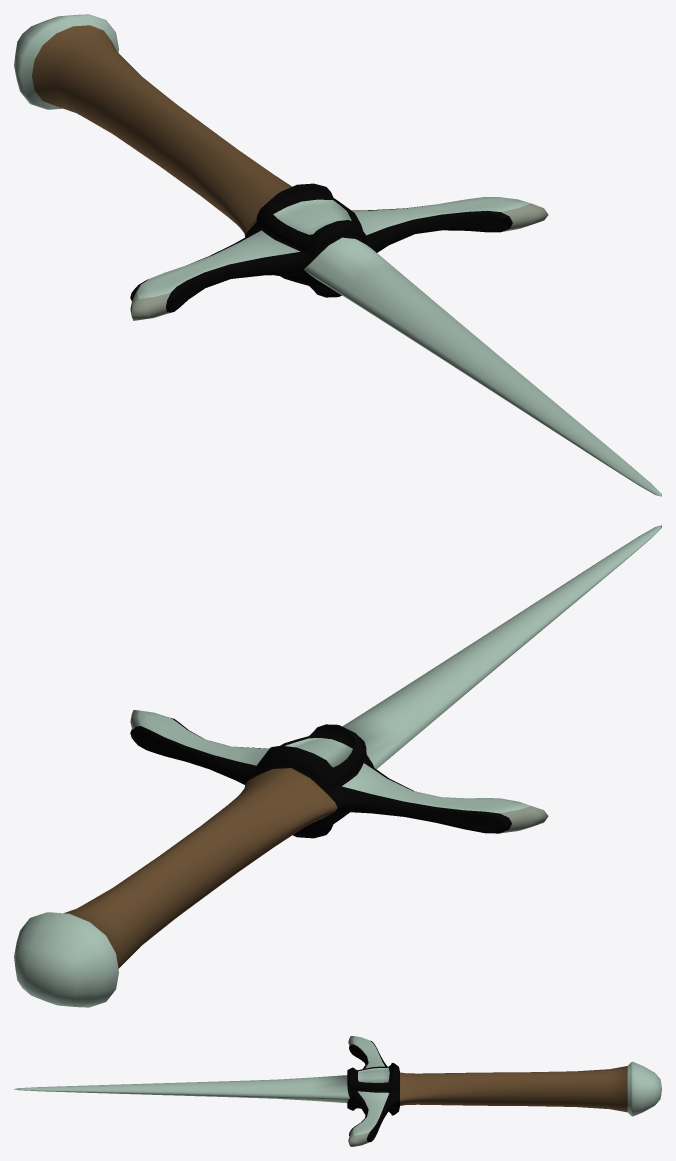
File: MOD_Dagger.fbx
The picture shows the model from 3 angles, top to bottom: view 1: azimuth 30°, elevation 25°; view 2: azimuth 150°, elevation 25°; view 3: azimuth 270°, elevation 25°; orthographic projection. The views are drawn at different scales.
Visible parts, largest first — view 1: Cube; view 2: Cube; view 3: Cube.
Part boxes in pixels (x1,y1,x2,y2): Cube: [14, 14, 661, 496]; Cube: [14, 525, 661, 1007]; Cube: [14, 1036, 661, 1146].
Bounding box in the file's own units: 1.58 × 0.3342 × 4.09.
2 materials, 2 textured.
